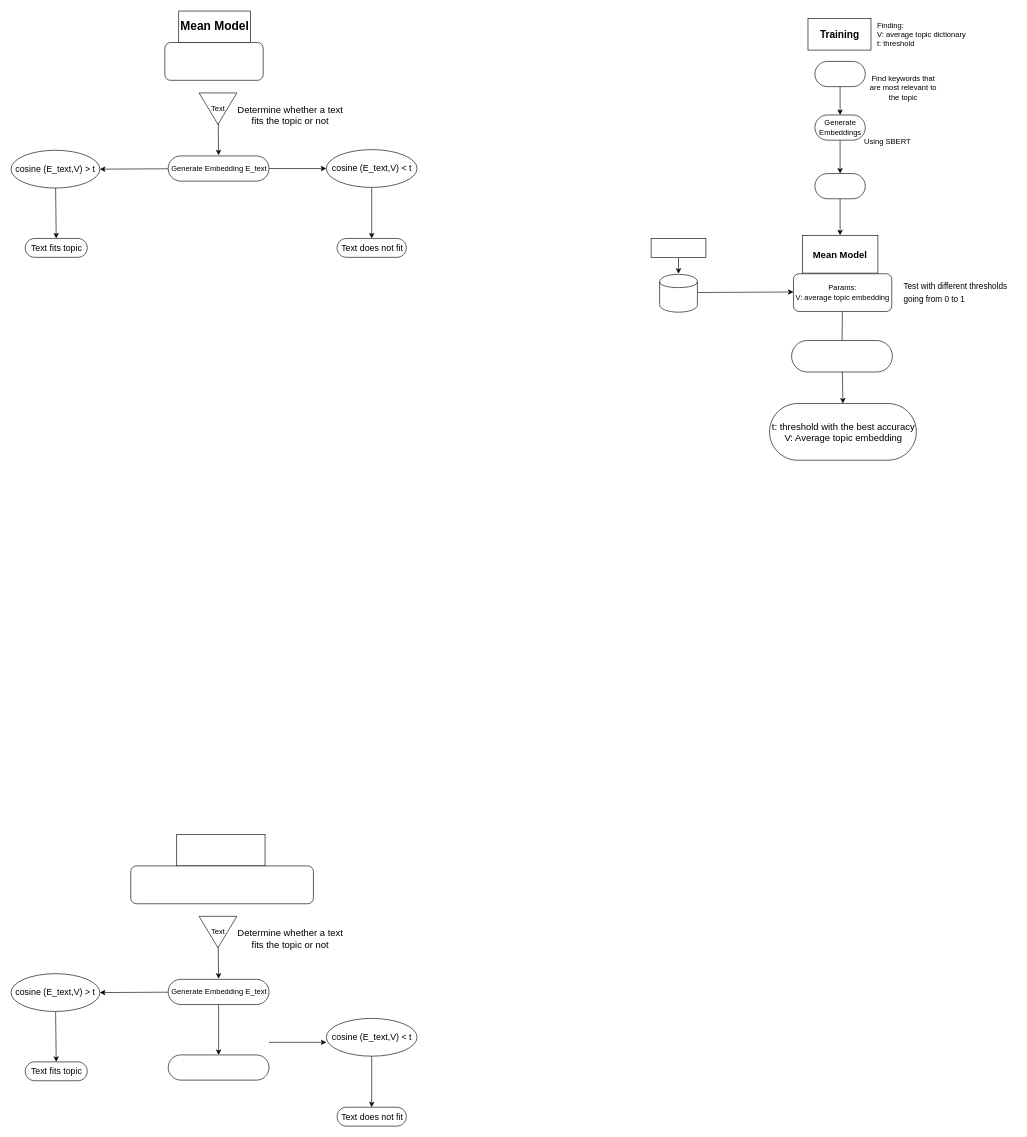
The diagram is 1027 pixels wide and 1137 high, and some of its shapes have lost their labels. The shapes that lost their labels are listed below. From the top down, each one's centre as x and y in pixels, then its label:
At point (213, 61): "Params: V: average topic embedding t: threshold".
At point (839, 74): "Create topic's dictionary".
At point (839, 186): "Find average embedding V".
At point (678, 247): "Training Dataset".
At point (841, 356): "Measure accuracy for each threshold".
At point (220, 850): "Gram-Schmidt Model".
At point (221, 884): "Params : S: Vector Space generated by the topic's embeddings t: threshold".
At point (218, 1067): "Find the orthogonal projection".
